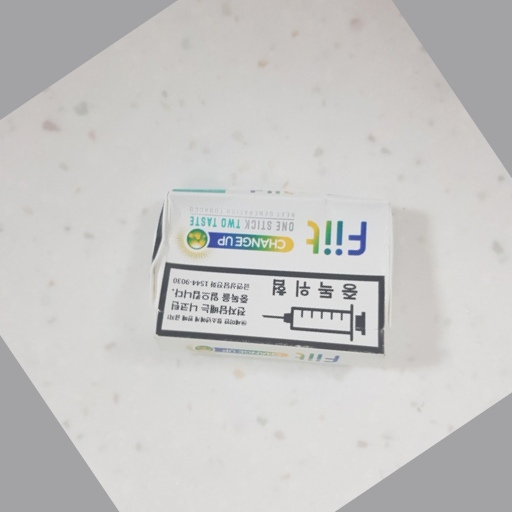Paper_0: (139, 175, 408, 384)
